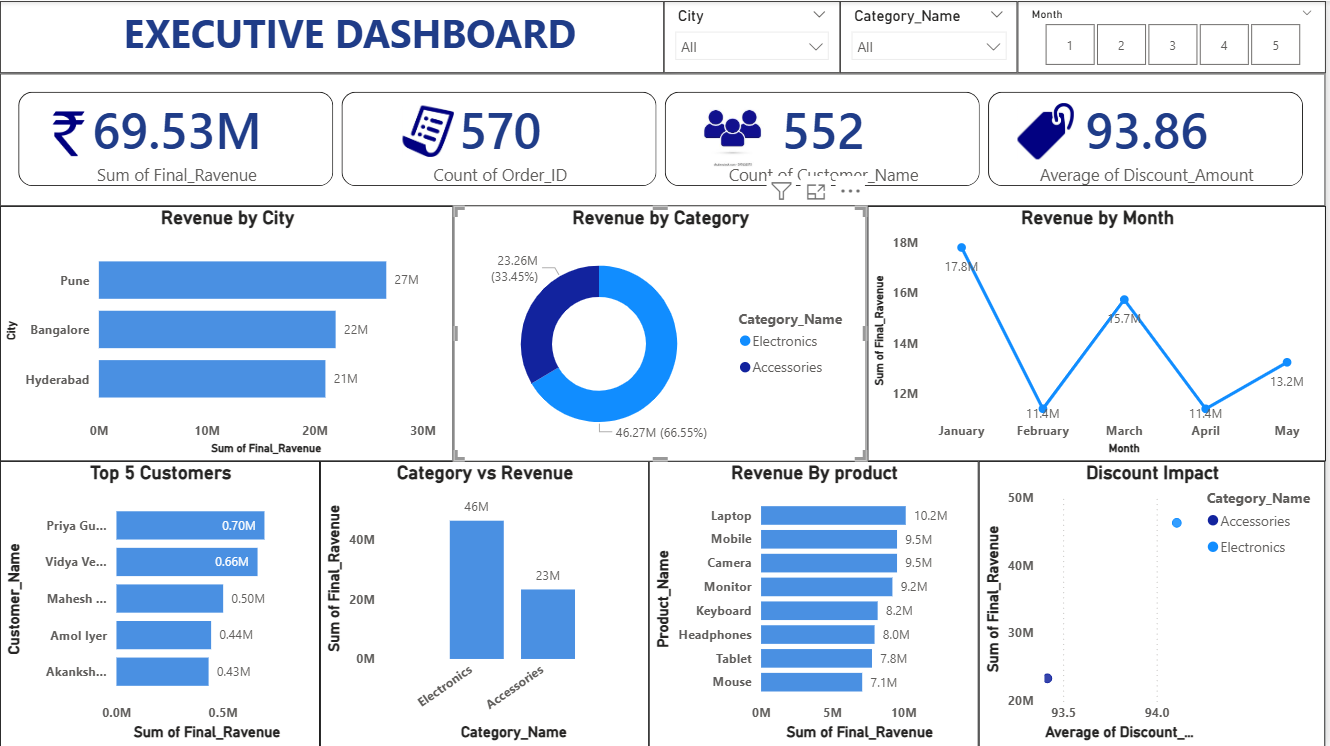

The dashboard page shown, as its layout file describes it:
{"tool":"powerbi","page":{"name":"Executuve_DashBoard_Ecommerece_DataSet","canvas":[1280,720],"ordinal":0},"visuals":[{"type":"textbox","box":[0,0,640.6,70],"z":0},{"type":"cardVisual","fields":{"Data":["Sheet1.Final_Ravenue","Sheet1.Order_ID","Sheet1.Customer_Name","Sheet1.Discount_Amount"]},"box":[0,70,1278.8,127.9],"z":1000},{"type":"barChart","title":"Revenue by City","fields":{"Category":["Sheet1.City"],"Y":["Sheet1.Final_Ravenue"]},"box":[0,197.9,437.9,246.1],"z":2000},{"type":"donutChart","title":"Revenue by Category","fields":{"Y":["Sheet1.Final_Ravenue"],"Category":["Sheet1.Category_Name"]},"box":[437.9,197.9,398.1,246.1],"z":3000},{"type":"lineChart","title":"Revenue by Month","fields":{"Y":["Sheet1.Final_Ravenue"],"Category":["Sheet1.Order_Date.Variation.Date Hierarchy.Month"]},"box":[837.3,197.9,442.8,246.1],"z":4000},{"type":"clusteredBarChart","title":"Top 5  Customers","fields":{"Category":["Sheet1.Customer_Name"],"Y":["Sheet1.Final_Ravenue"]},"box":[0,444,308.8,276.3],"z":5000},{"type":"clusteredBarChart","title":"Revenue By product","fields":{"Category":["Sheet1.Product_Name"],"Y":["Sheet1.Final_Ravenue"]},"box":[626.1,444,318.5,276.3],"z":6000},{"type":"columnChart","title":"Category vs Revenue","fields":{"Category":["Sheet1.Category_Name"],"Y":["Sheet1.Final_Ravenue"]},"box":[308.8,444,317.3,276.3],"z":7000},{"type":"slicer","fields":{"Values":["Sheet1.City"]},"box":[640.6,0,170.1,70],"z":8000},{"type":"slicer","fields":{"Values":["Sheet1.Category_Name"]},"box":[810.7,0,171.3,70],"z":9000},{"type":"slicer","fields":{"Values":["Sheet1.Month"]},"box":[982,0,298,70],"z":10000},{"type":"image","box":[44.6,102.5,43.4,50.7],"z":11000},{"type":"image","box":[388.5,97.7,49.5,55.5],"z":12000},{"type":"image","box":[982,83.2,54.3,84.5],"z":13000},{"type":"scatterChart","title":"Discount Impact","fields":{"Y":["Sheet1.Final_Ravenue"],"X":["Sheet1.Discount_Amount"],"Series":["Sheet1.Category_Name"]},"box":[944.6,444,334.2,276.3],"z":14000},{"type":"image","box":[649.1,90.5,115.8,70],"z":15000}]}

Visuals, with their boxes in screenshot pixels (x1, y1, x2, y2), scaled from the page's 1280x720 canvas onto the 1330x746 screenshot:
textbox: x1=0 y1=0 x2=666 y2=73
cardVisual - Sheet1.Final_Ravenue x Sheet1.Order_ID: x1=0 y1=73 x2=1329 y2=205
"Revenue by City" barChart: x1=0 y1=205 x2=455 y2=460
"Revenue by Category" donutChart: x1=455 y1=205 x2=869 y2=460
"Revenue by Month" lineChart: x1=870 y1=205 x2=1329 y2=460
"Top 5  Customers" clusteredBarChart: x1=0 y1=460 x2=321 y2=745
"Revenue By product" clusteredBarChart: x1=651 y1=460 x2=981 y2=745
"Category vs Revenue" columnChart: x1=321 y1=460 x2=651 y2=745
slicer - Sheet1.City: x1=666 y1=0 x2=842 y2=73
slicer - Sheet1.Category_Name: x1=842 y1=0 x2=1020 y2=73
slicer - Sheet1.Month: x1=1020 y1=0 x2=1329 y2=73
image: x1=46 y1=106 x2=91 y2=159
image: x1=404 y1=101 x2=455 y2=159
image: x1=1020 y1=86 x2=1077 y2=174
"Discount Impact" scatterChart: x1=981 y1=460 x2=1329 y2=745
image: x1=674 y1=94 x2=795 y2=166
